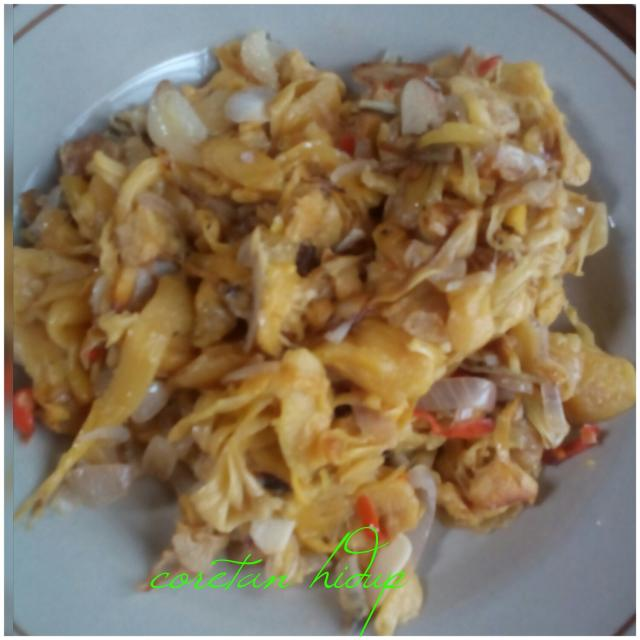Organik: (7, 35, 635, 625)
